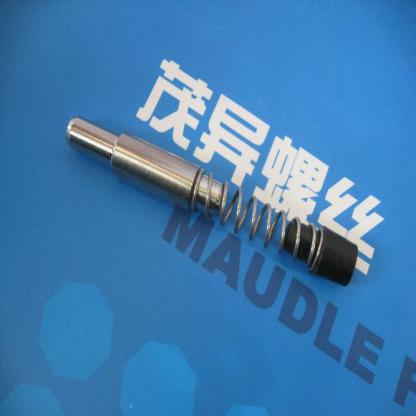FOD: (191, 162, 325, 273)
